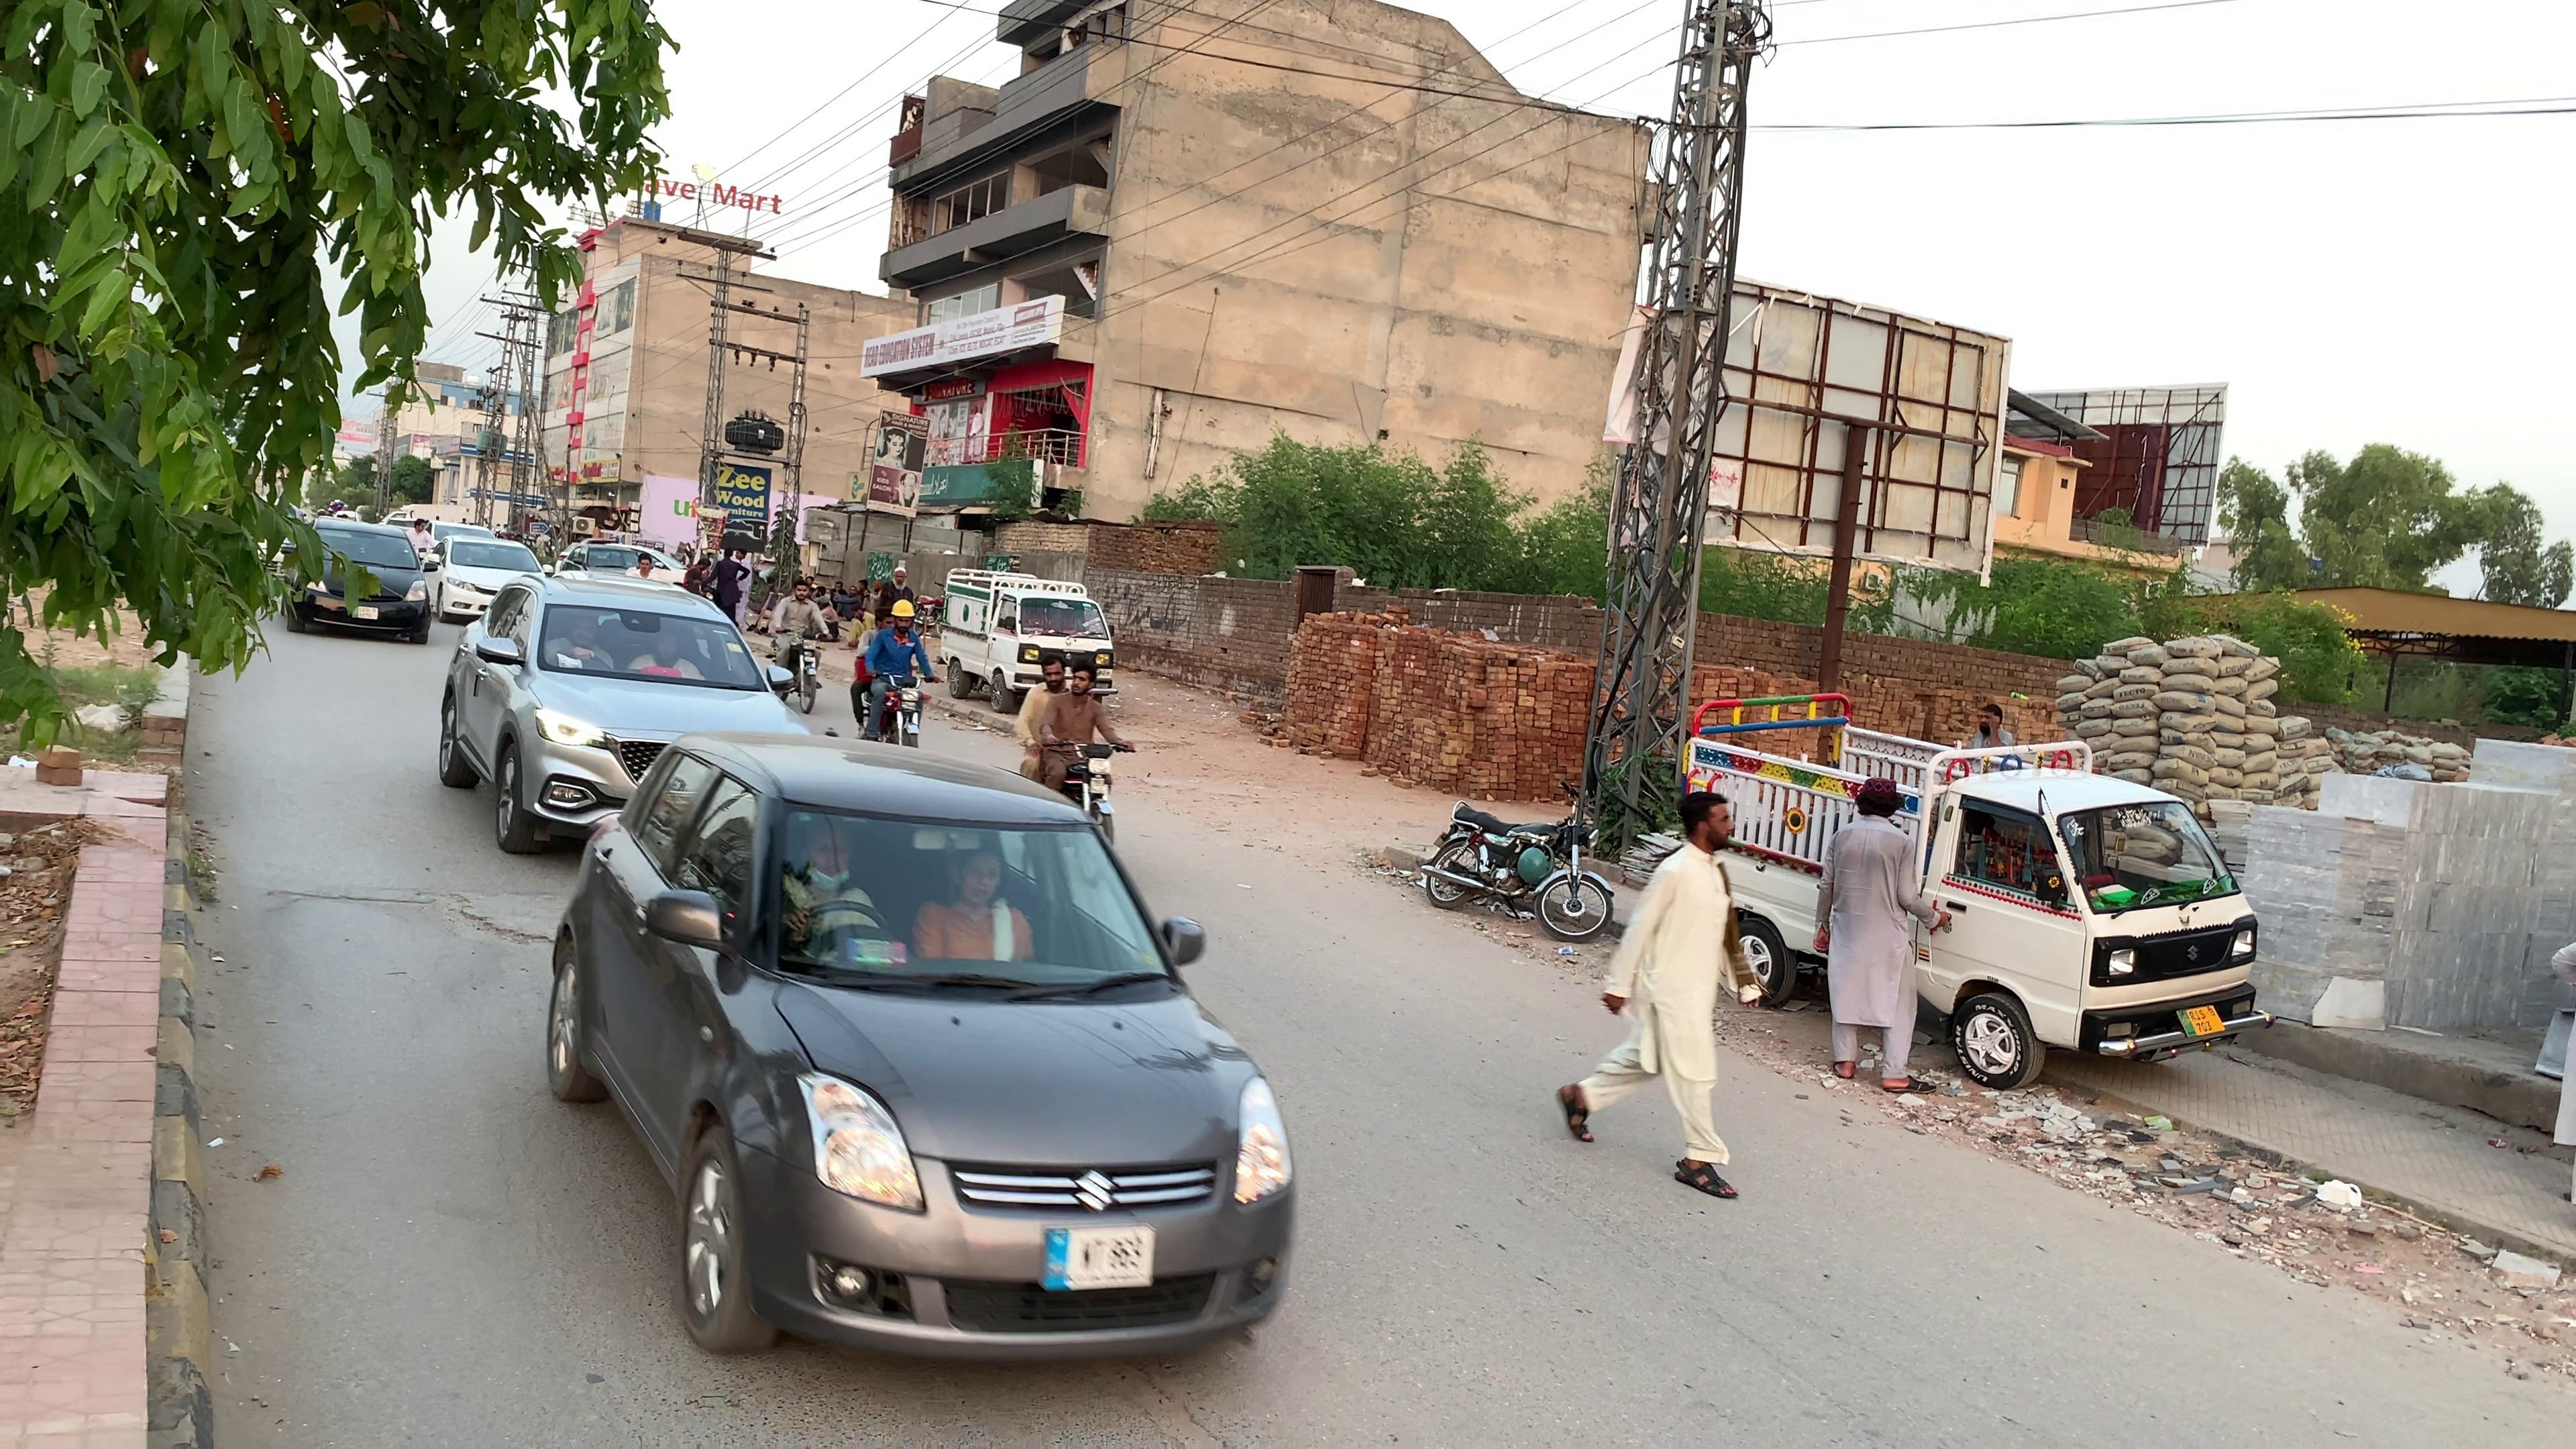windshield: (745, 786, 1201, 1010), (527, 593, 780, 694)
